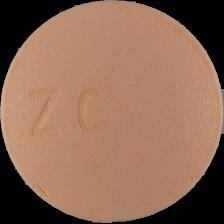53808-0890: (0, 0, 224, 224)
